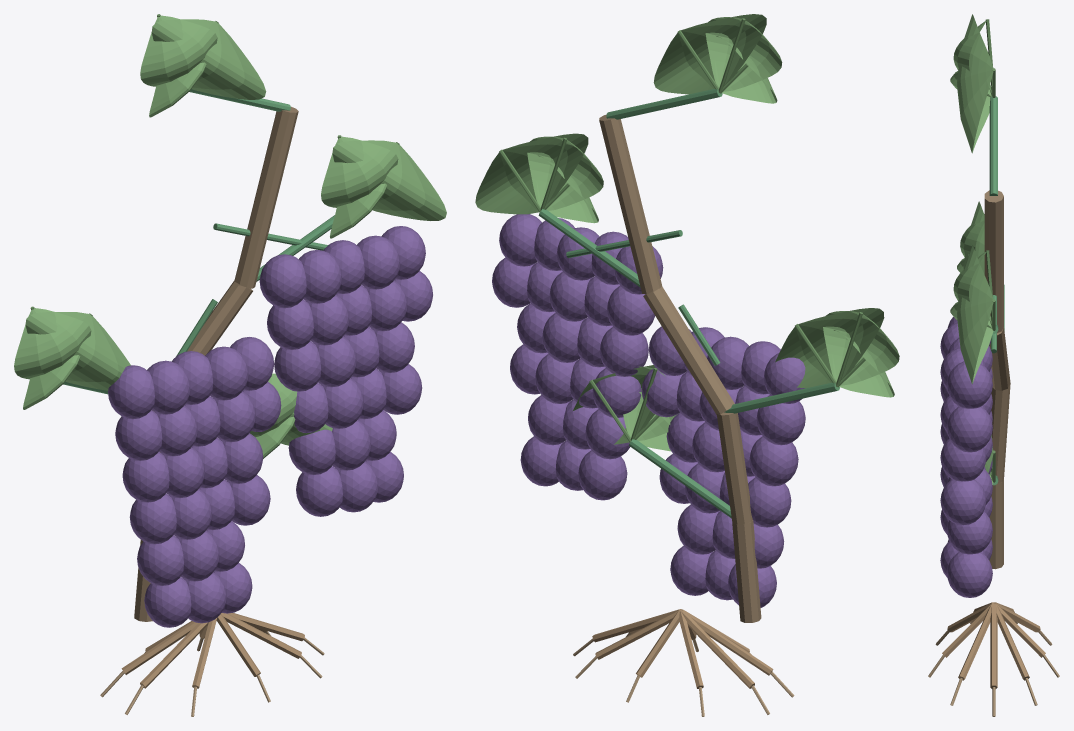
The model's file is 53_Tokdoshlar.glb.
3 renders of one model, left to right at view 1: azimuth 30°, elevation 25°; view 2: azimuth 150°, elevation 25°; view 3: azimuth 270°, elevation 25°, orthographic. The views are drawn at different scales.
Visible parts, largest first — view 1: fruit, leaf, stem, root; view 2: fruit, leaf, stem, root; view 3: fruit, leaf, stem, root.
Boxes of the visible parts, <box> form: fruit: <box>108,226,432,627</box>; leaf: <box>14,15,446,458</box>; stem: <box>30,14,399,621</box>; root: <box>100,613,324,716</box>; fruit: <box>492,214,805,607</box>; leaf: <box>475,14,899,451</box>; stem: <box>499,18,865,622</box>; root: <box>573,609,794,716</box>; fruit: <box>940,317,992,597</box>; leaf: <box>950,14,993,484</box>; stem: <box>984,19,1010,569</box>; root: <box>928,602,1059,716</box>.
Size of the model in its own units: 2.08 by 3.15 by 0.603.
